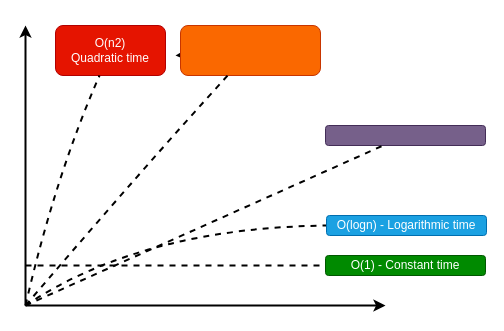
Some shapes in this 504 by 331 pixel diagram are drawn without their labels. The shapes that lost their labels are listed below. From the top down, each one's centre as x and y in pixels, then its label:
(x=250, y=50): O(n log n) Log linear time
(x=405, y=135): O(n) - Linear time
